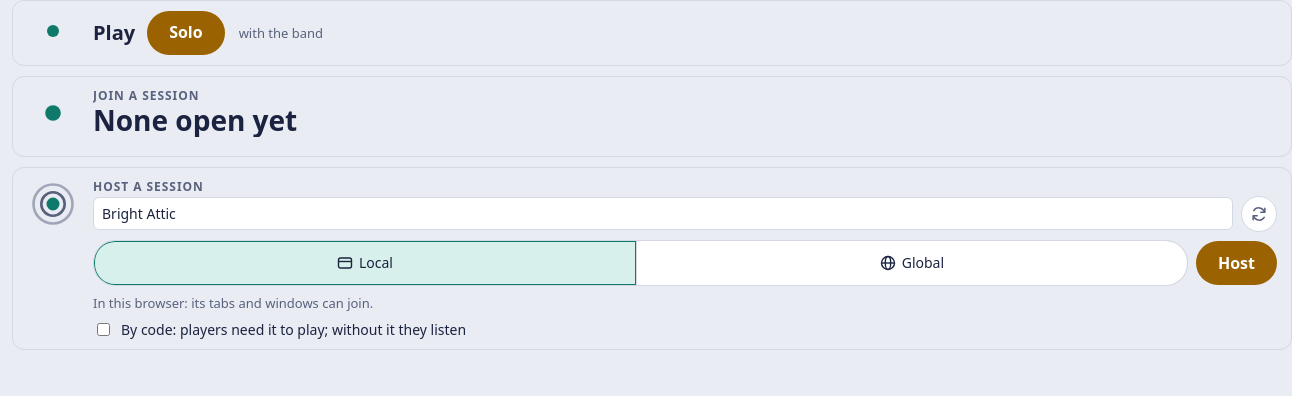
it: the lobby, the door to the band › says why a host was refused
Replace the text in the field named "Session name" with "Garage": (663, 214) [93, 197, 1233, 230]
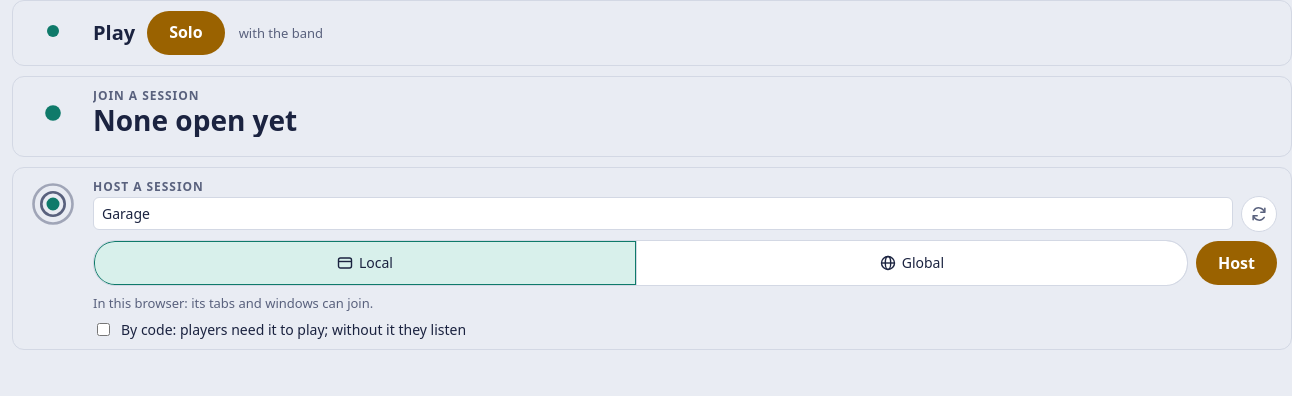
Click the button "Host": (1236, 263) [1196, 241, 1277, 285]
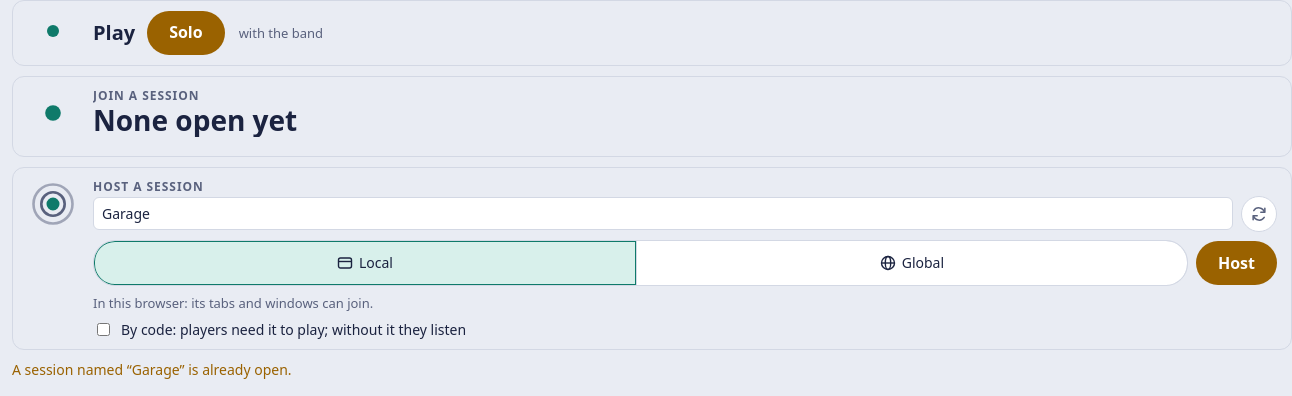
Now the message reads "A session named “Garage” is already open.", box [12, 360, 292, 379]
